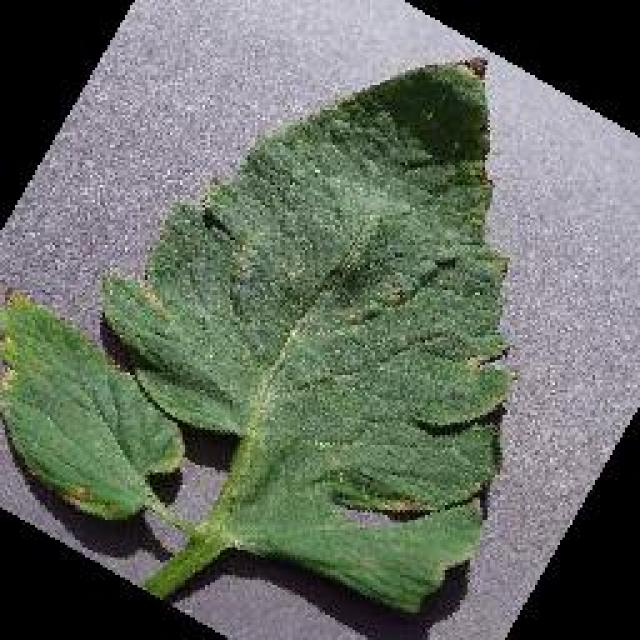Tomato___Target_Spot: (0, 58, 510, 610)
